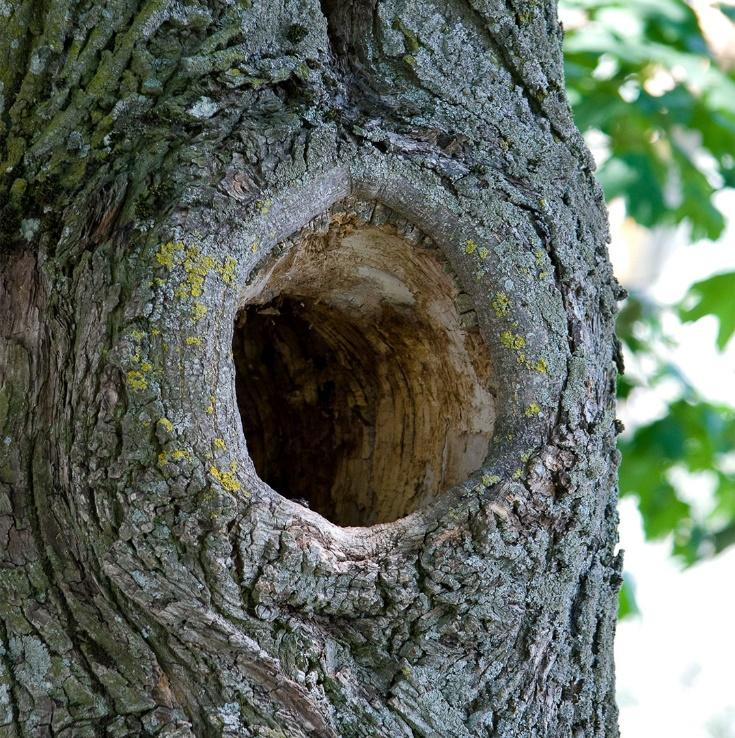hollow: (233, 219, 493, 525)
